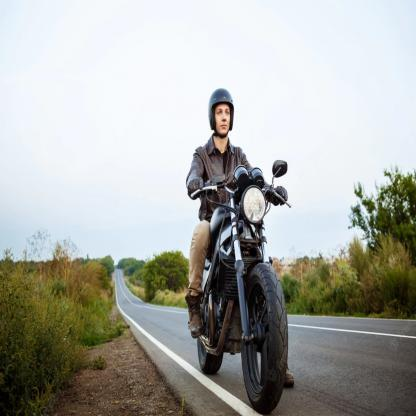helmet: (208, 88, 235, 136)
